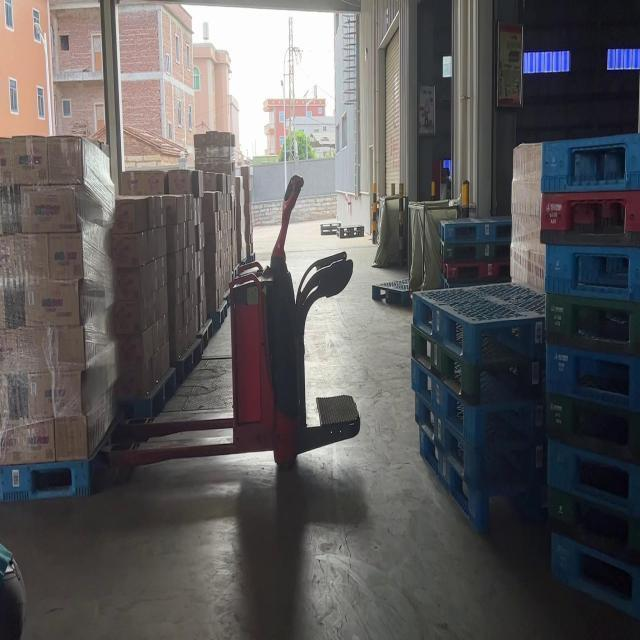forklift: (96, 174, 362, 490)
